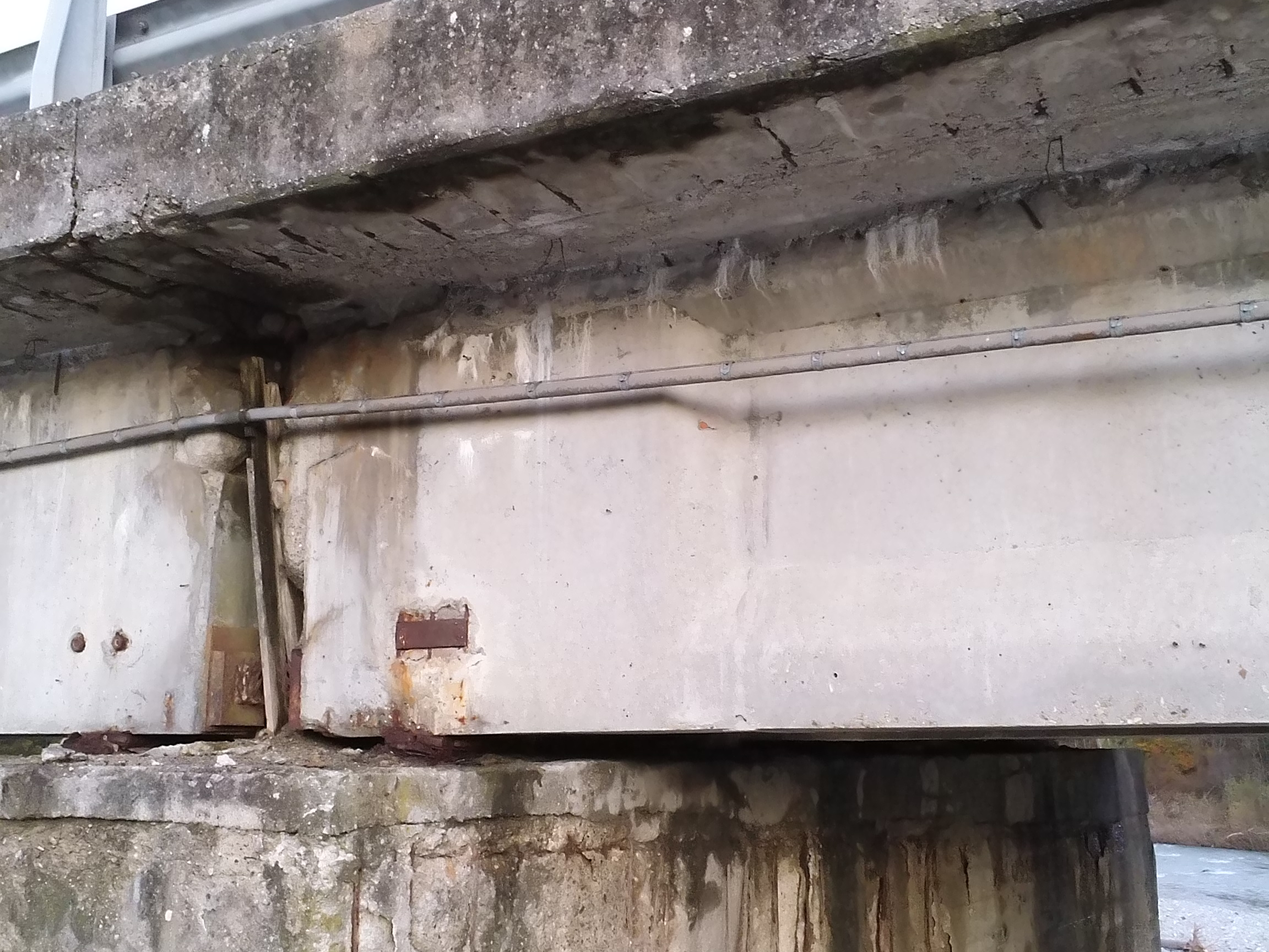Corrosion/Exposed rebar: (7, 13, 1244, 347), (303, 810, 1105, 944), (311, 606, 508, 736), (141, 688, 182, 731)
Leaching: (2, 3, 1266, 381), (3, 747, 1161, 948), (117, 311, 552, 618)
Spalling: (6, 10, 1261, 351), (25, 2, 1031, 260), (15, 803, 1130, 945), (308, 603, 514, 738), (125, 685, 196, 734)
